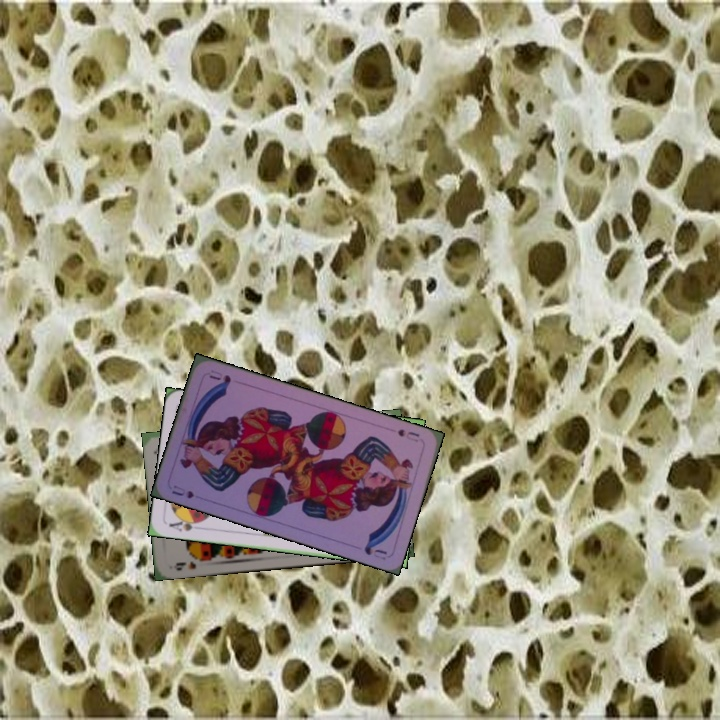S9: (172, 552, 209, 573)
SA: (165, 514, 206, 534)
SU: (168, 481, 197, 501), (393, 425, 422, 445)
